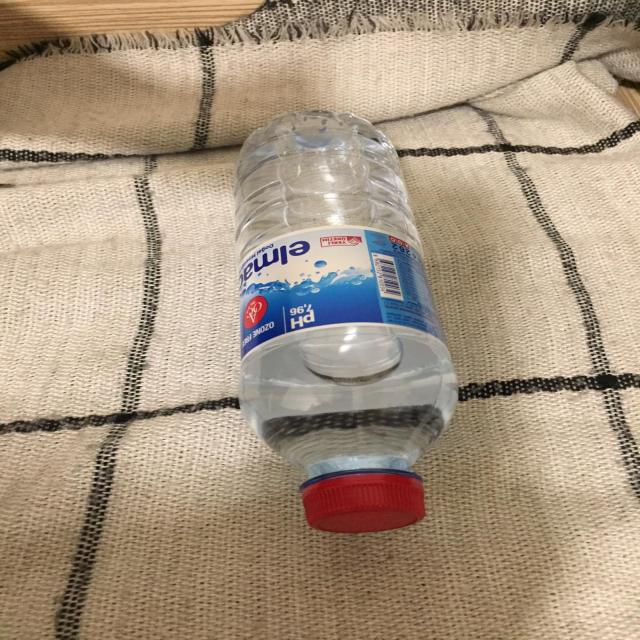bottle: (237, 110, 462, 539)
